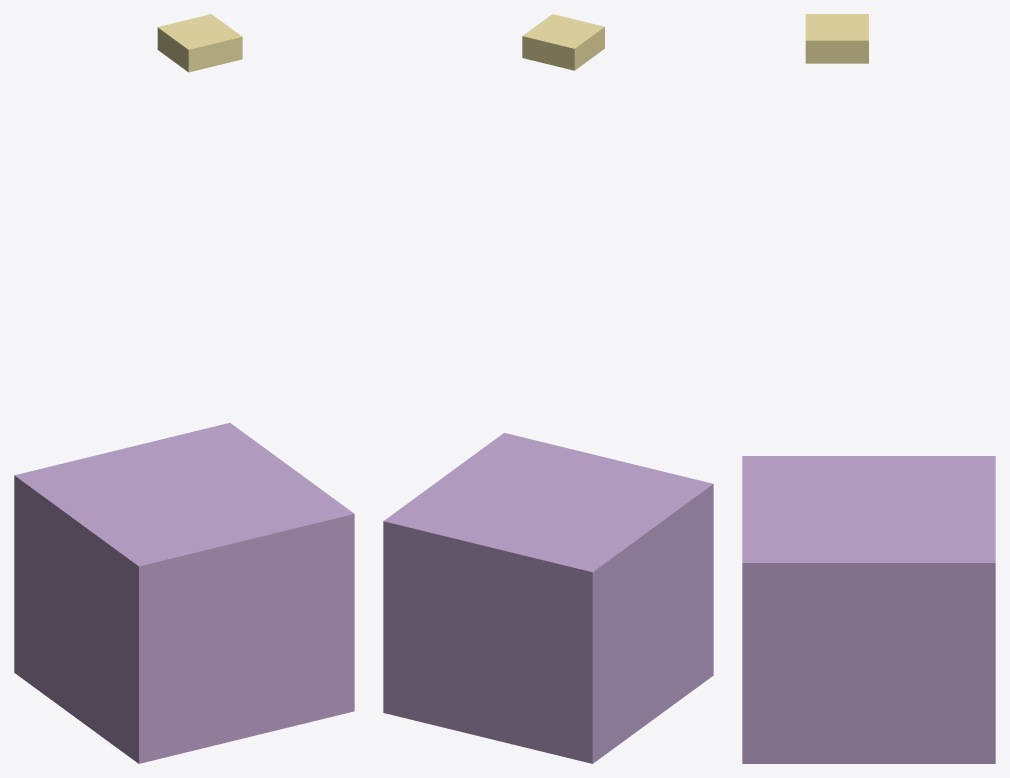
File: furniture.glb
3 views of the same model, side by side, from view 1: azimuth 30°, elevation 25°; view 2: azimuth 150°, elevation 25°; view 3: azimuth 270°, elevation 25° (orthographic). The views are drawn at different scales.
Bounding box in the file's own units: 0.8 × 2.38 × 0.8.
